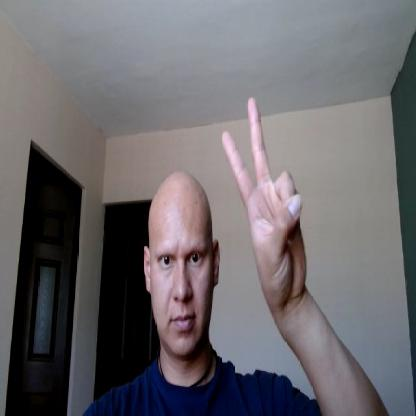V: (219, 93, 308, 300)
